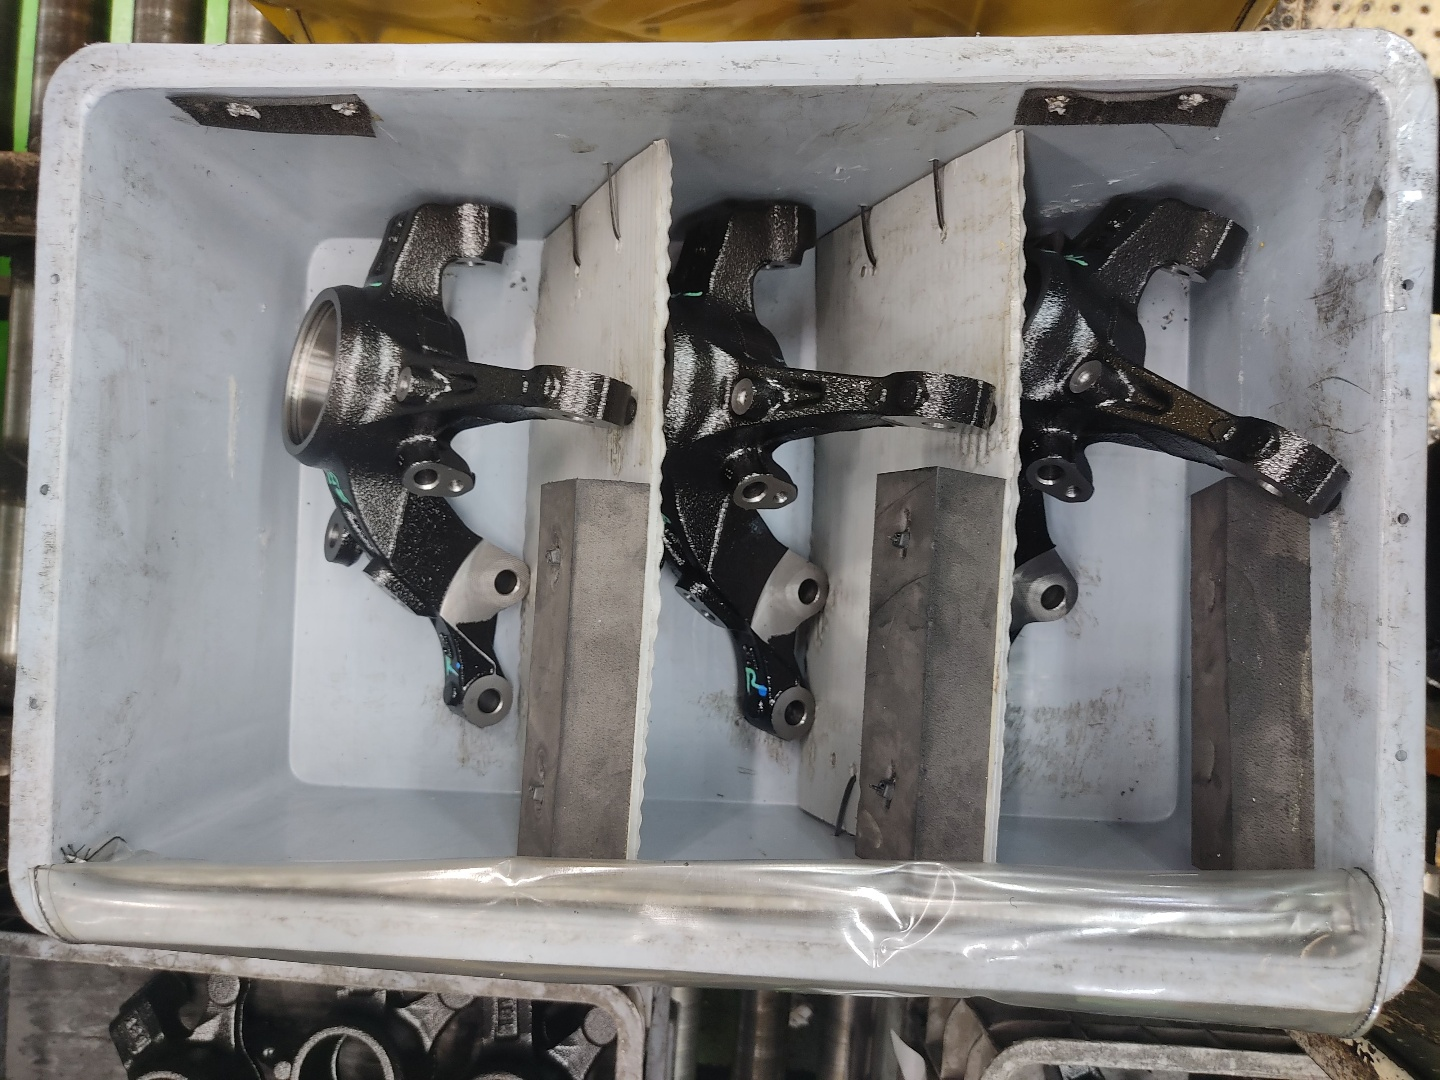abs-rh: (268, 185, 643, 739), (653, 188, 1000, 756), (1007, 177, 1358, 734)
